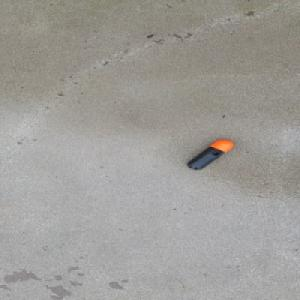PlasticPart: (185, 139, 234, 170)
